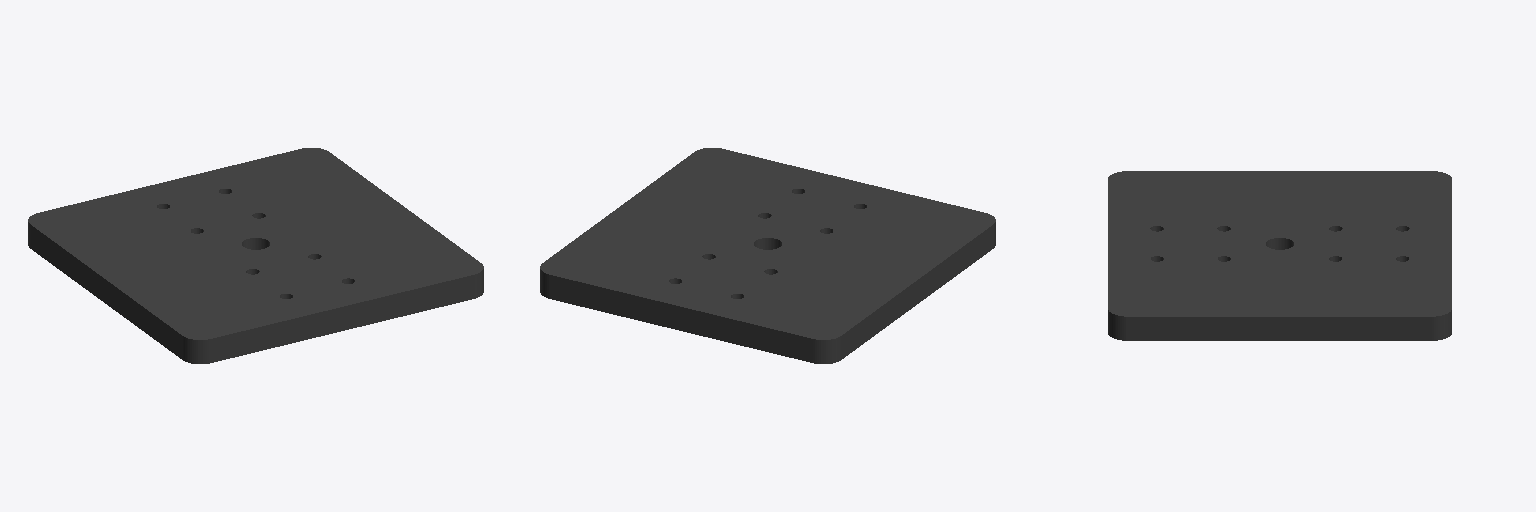
The model's file is RightHorizontalSlider_7.obj.
3 renders of one model, left to right at view 1: azimuth 30°, elevation 25°; view 2: azimuth 150°, elevation 25°; view 3: azimuth 270°, elevation 25°, orthographic.
Size of the model in its own units: 0.0772 by 0.006 by 0.0772.